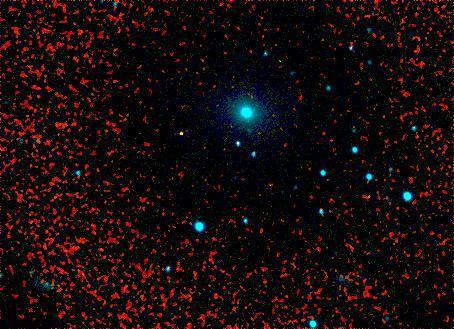star: (164, 114, 194, 144)
